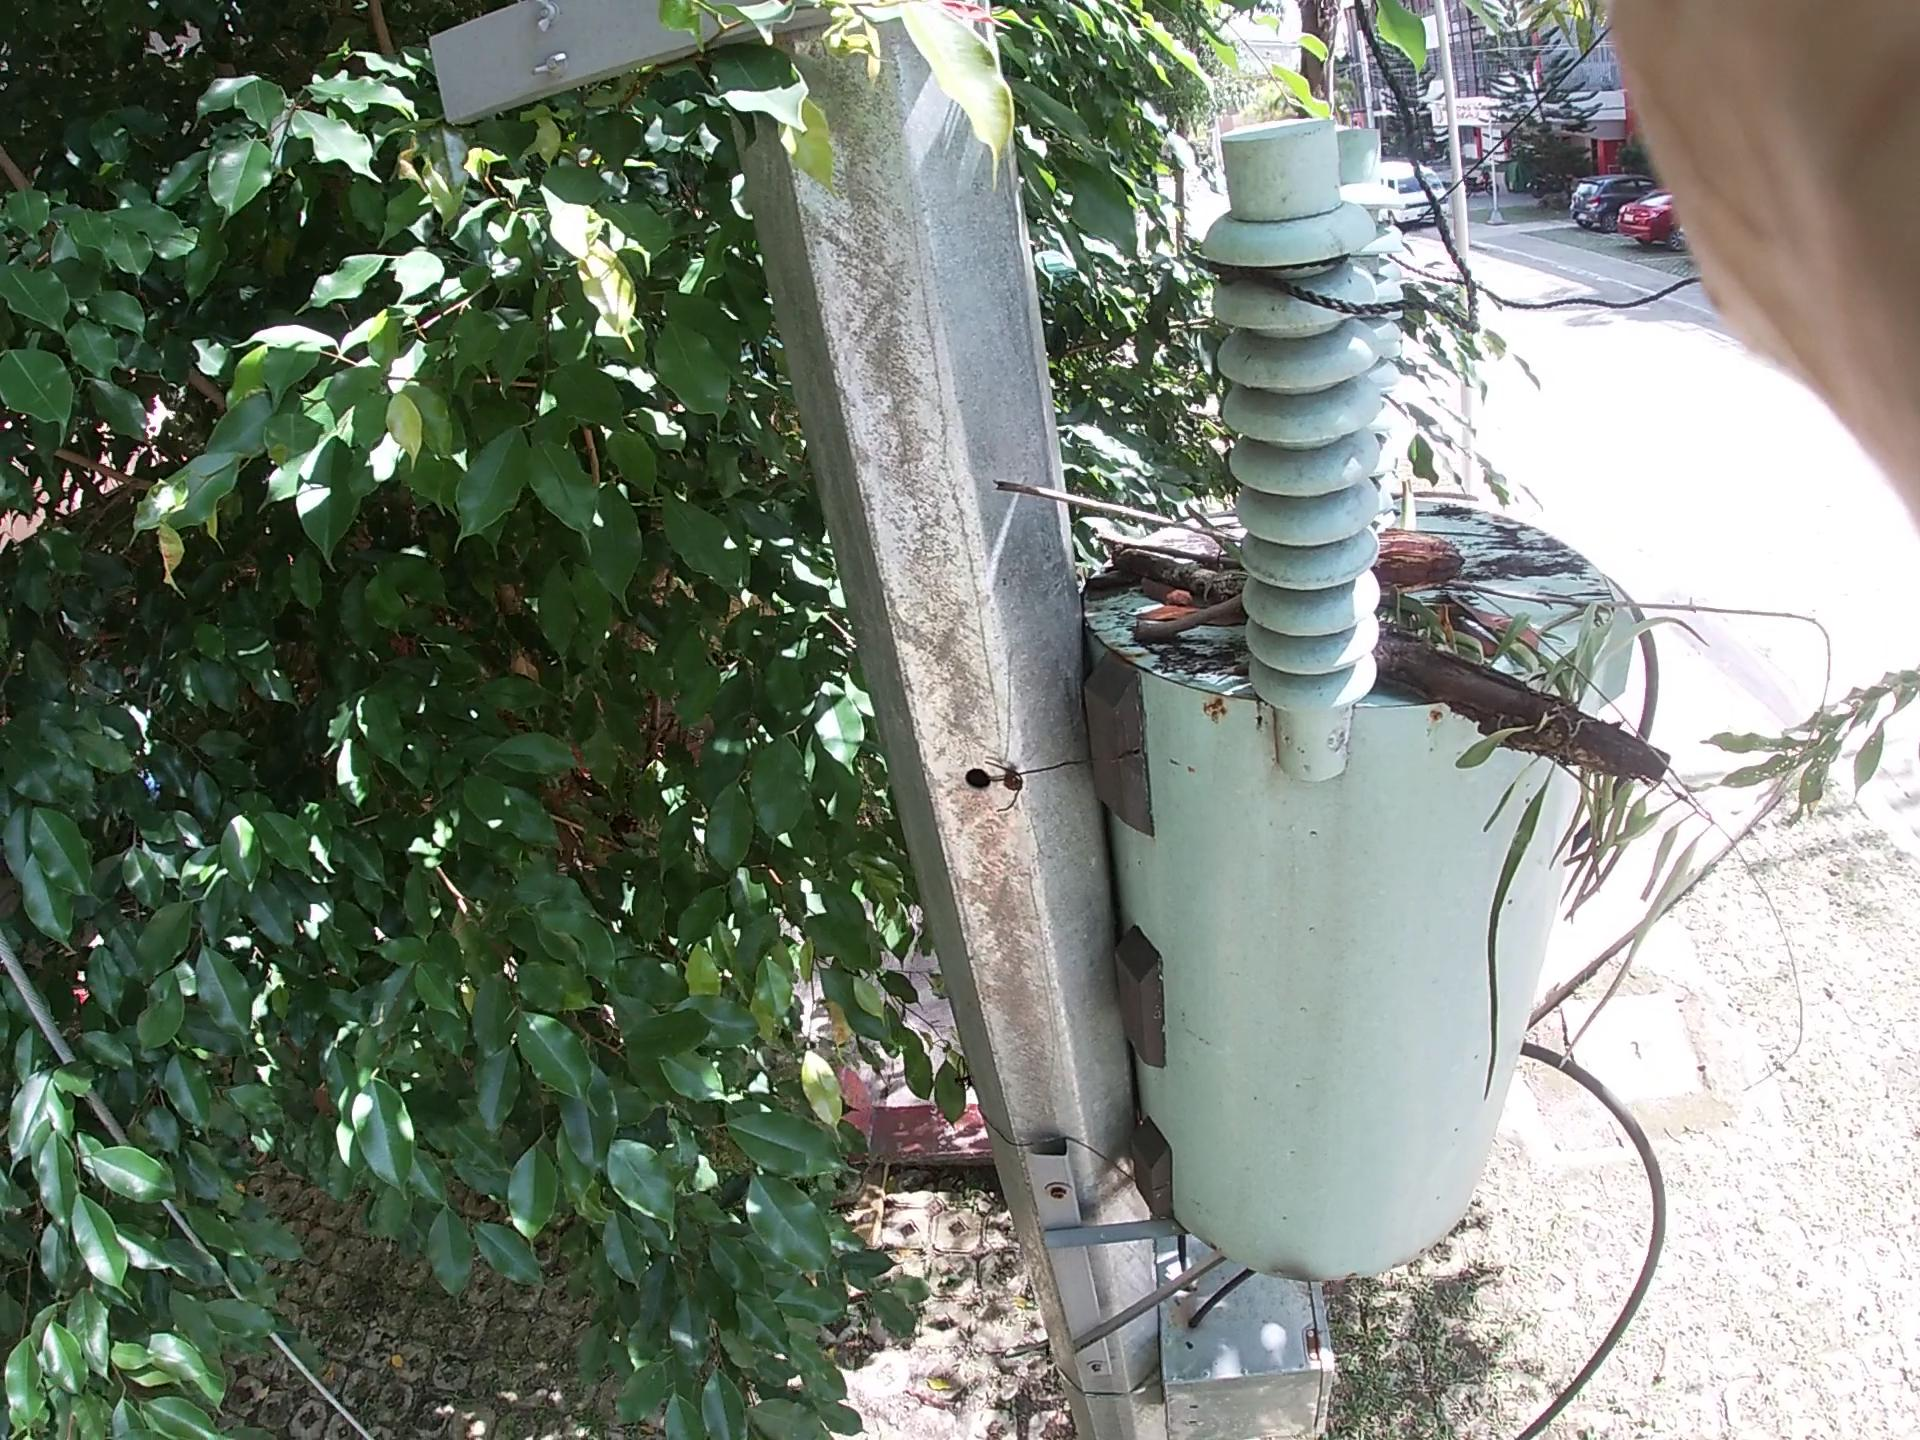branch with leaves: (1114, 520, 1702, 826)
leaf: (1090, 542, 1297, 684)
mahogany fruit: (1284, 510, 1563, 594)
tree branch: (990, 466, 1209, 549), (1134, 575, 1249, 650)
